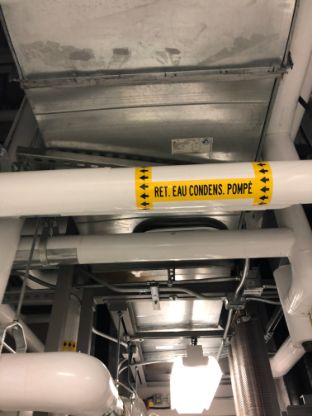Duct: (1, 1, 303, 161)
